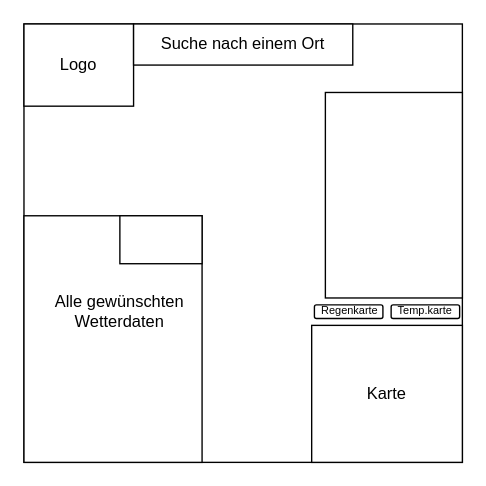
The diagram is 486 pixels wide and 486 high, and some of its shapes have lost their labels. The box of each missing label's shape, as (x1, y1, x2, y2) in pixels:
Flagge: (119, 214, 202, 264)
Wettervorhersage: (324, 91, 462, 298)
